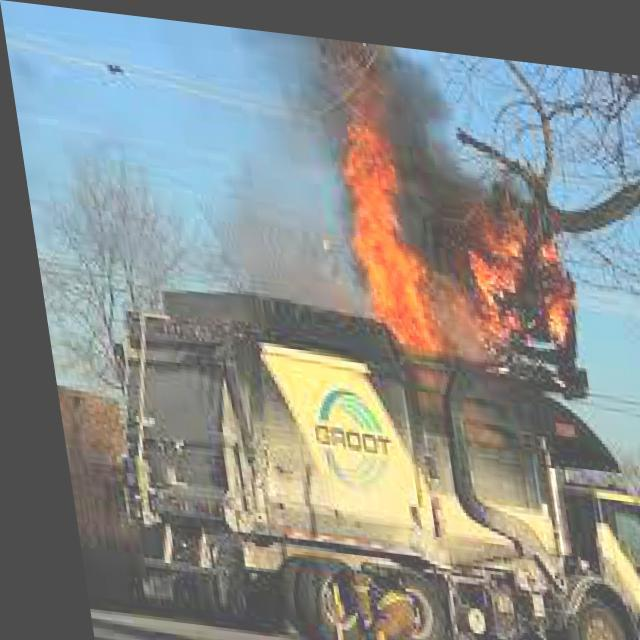Fire: (323, 95, 598, 382)
